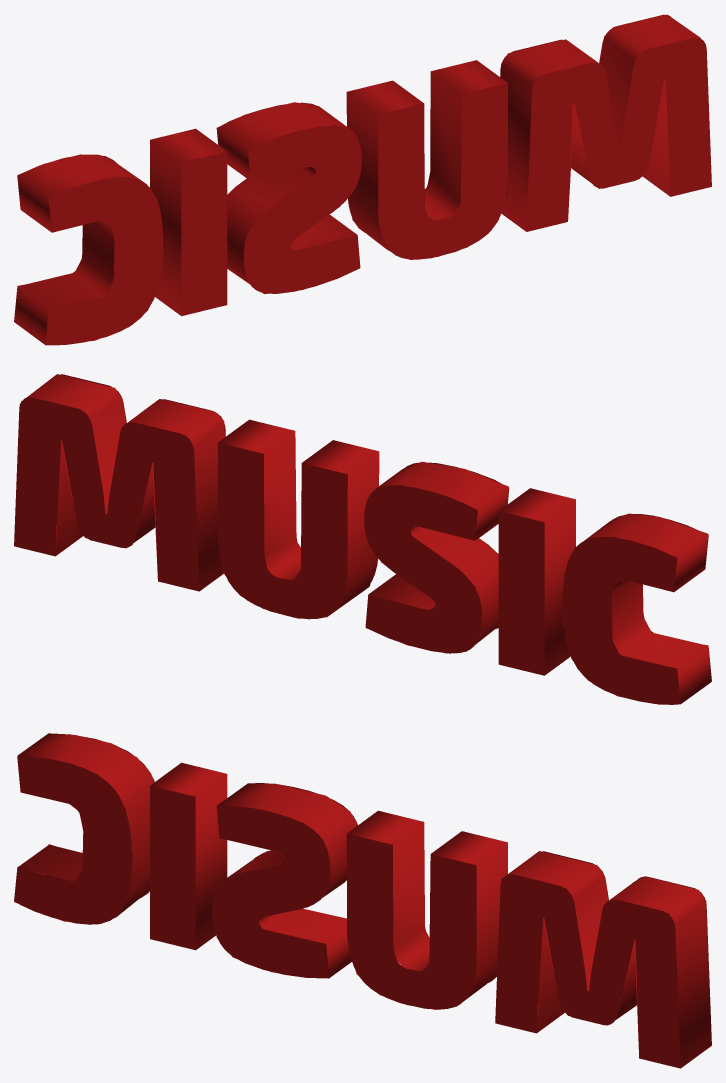
Rendered from music.fbx.
The picture shows the model from 3 angles, top to bottom: view 1: azimuth 30°, elevation 25°; view 2: azimuth 150°, elevation 25°; view 3: azimuth 330°, elevation 25°; orthographic projection.
Visible parts, largest first — view 1: Text; view 2: Text; view 3: Text.
Boxes of the visible parts, x1,y1,x2,y2 form: Text: (14,14,711,345); Text: (14,374,711,704); Text: (14,733,711,1068).
Bounding box in the file's own units: 9.82 × 2.26 × 0.8.
